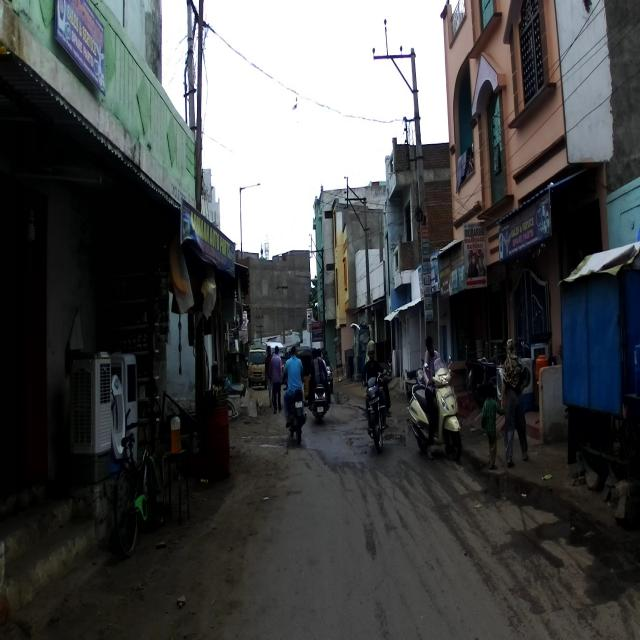motorcycle: (360, 369, 390, 455), (280, 380, 308, 446)
scooter: (408, 354, 462, 462)
